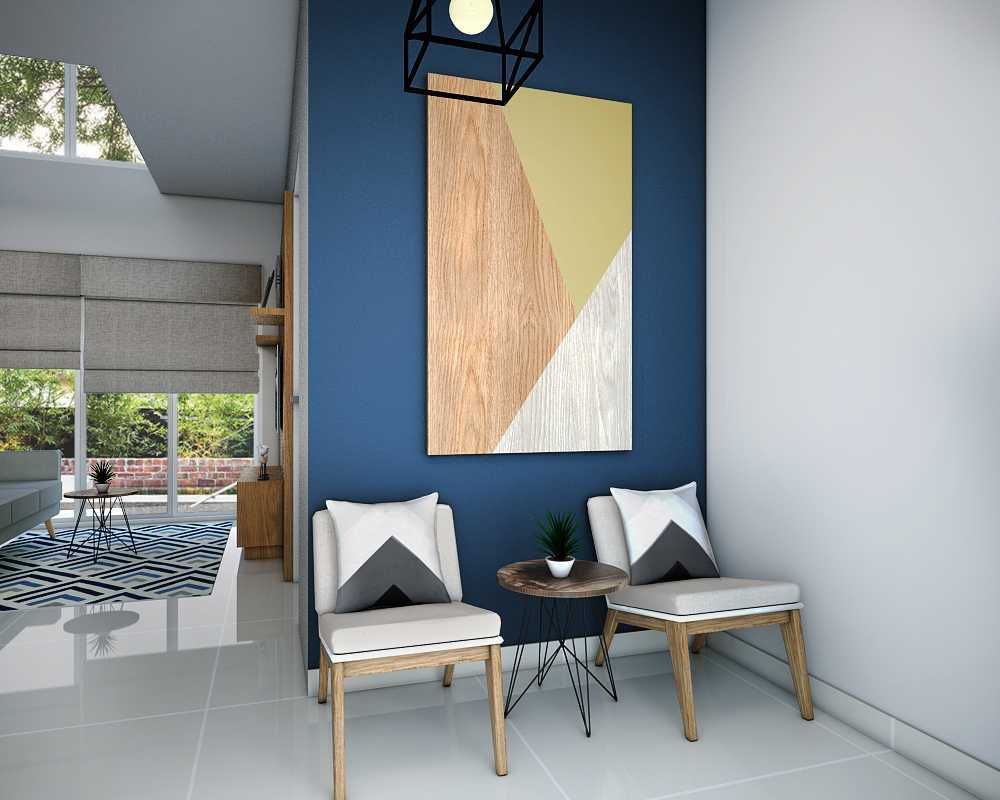bantal: (333, 497, 448, 603), (617, 484, 718, 582)
kursi: (308, 502, 515, 784), (589, 488, 816, 743)
lukisan: (425, 65, 640, 457)
meja: (489, 553, 627, 726)
sova: (3, 443, 64, 548)
tanaman: (90, 393, 166, 455), (4, 368, 70, 439), (175, 397, 253, 456), (537, 513, 581, 574), (89, 463, 116, 497)
